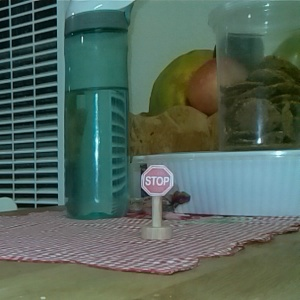stop sign: (137, 162, 176, 242)
